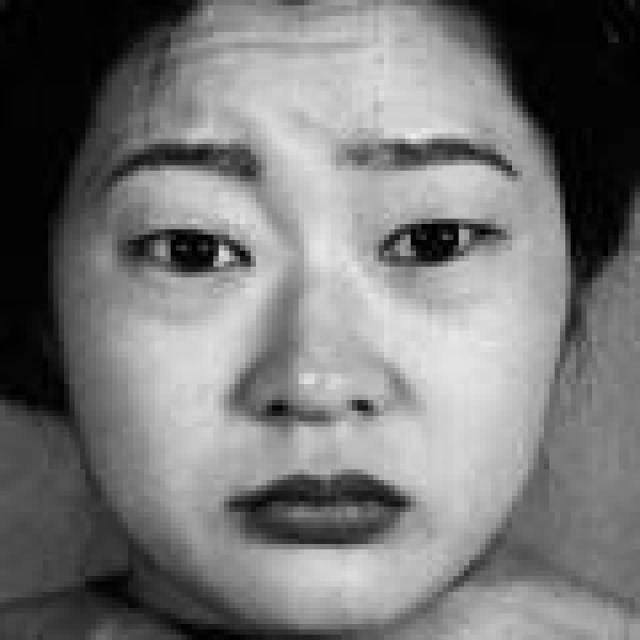fear: (84, 51, 594, 635)
